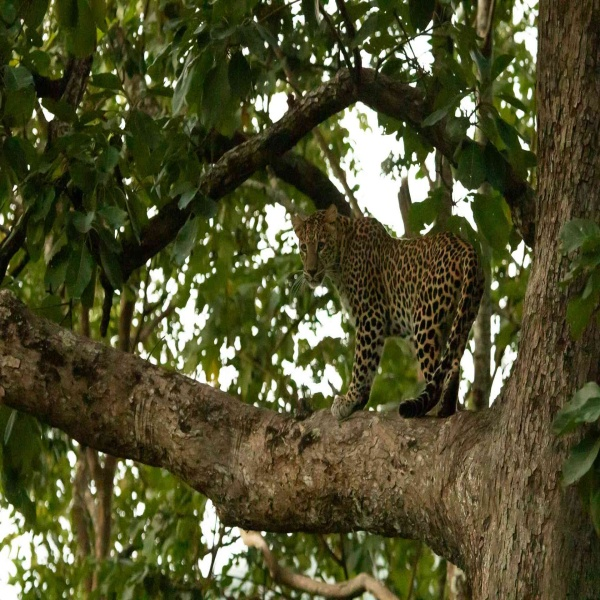Leopard: (286, 202, 491, 425)
